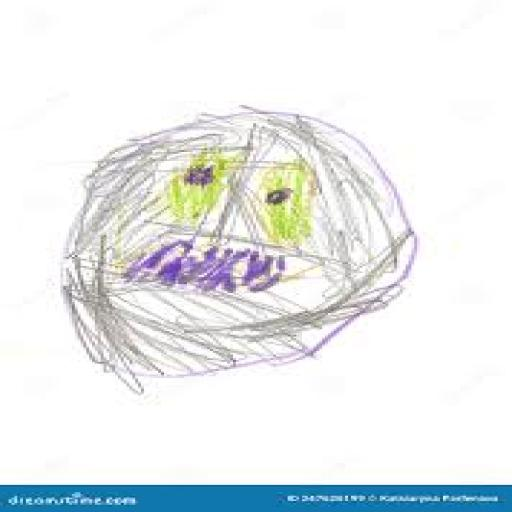person: (52, 105, 451, 401)
